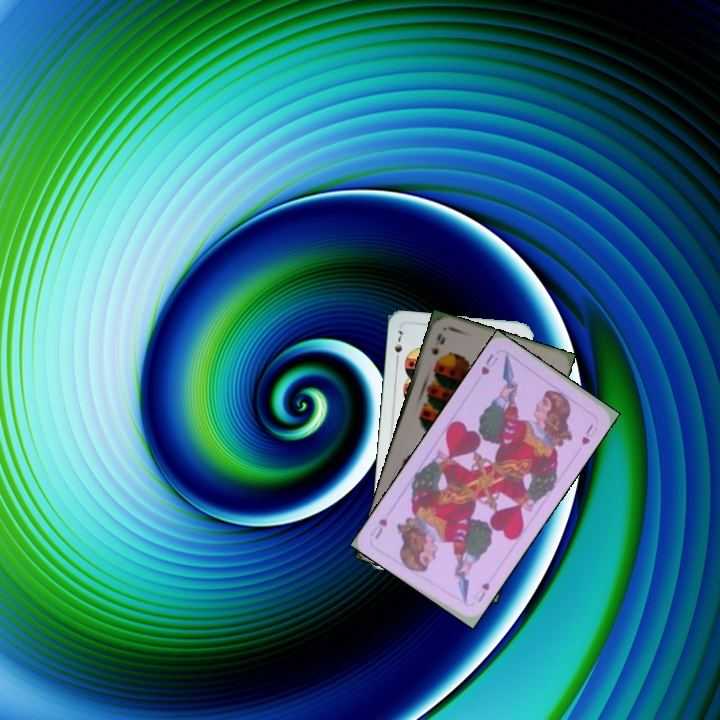HU: (477, 349, 501, 378), (473, 578, 492, 605)
S7: (390, 326, 405, 365)
S9: (426, 329, 448, 358)
